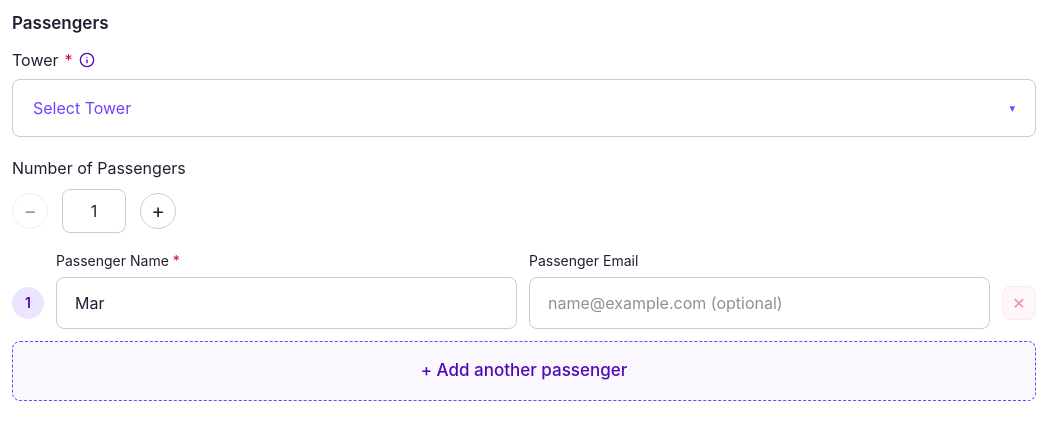
Test: PassengerList / PassengerRow › filters suggestions to ones matching what's typed
The image size is (1048, 437).
Focus the dropdown labelled "Passenger Name *": (286, 303) [56, 277, 517, 329]
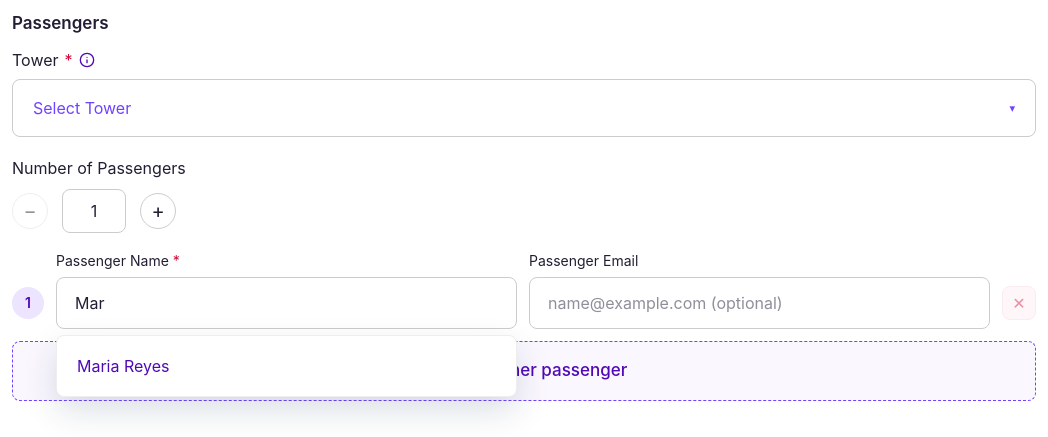
Result: the option "Maria Reyes" is shown at [57, 344, 516, 388]
